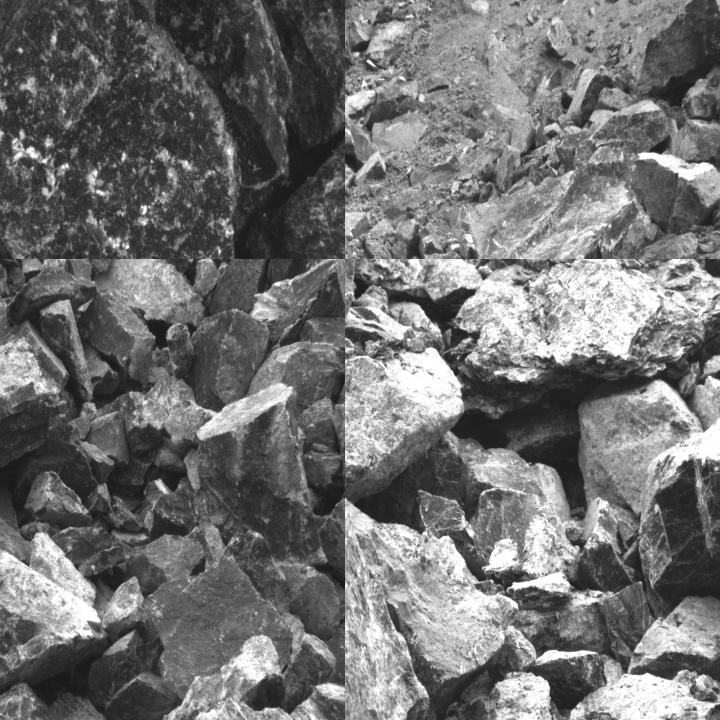stone: (0, 0, 242, 258), (97, 0, 293, 241), (345, 497, 520, 684), (144, 532, 292, 698), (345, 444, 430, 719), (200, 400, 330, 566), (0, 491, 101, 689), (345, 347, 465, 506), (638, 403, 719, 620), (247, 89, 344, 258), (470, 176, 648, 258), (256, 0, 344, 149), (587, 148, 719, 232), (625, 0, 719, 98), (254, 259, 344, 352), (192, 311, 272, 411), (559, 669, 719, 719), (0, 384, 76, 489), (96, 259, 206, 328), (248, 341, 344, 405), (79, 293, 153, 376), (0, 321, 71, 404), (469, 670, 563, 719), (522, 506, 580, 583), (593, 100, 671, 153), (126, 535, 203, 587), (578, 523, 634, 594), (24, 473, 92, 530), (564, 66, 613, 121), (144, 480, 200, 528), (367, 19, 416, 69), (345, 99, 379, 167), (668, 119, 719, 164), (303, 316, 344, 367), (632, 231, 698, 258), (683, 80, 718, 121), (545, 15, 573, 58), (510, 112, 536, 156), (354, 152, 388, 184), (346, 21, 371, 52), (86, 259, 127, 274), (345, 26, 355, 72), (368, 244, 398, 258)
